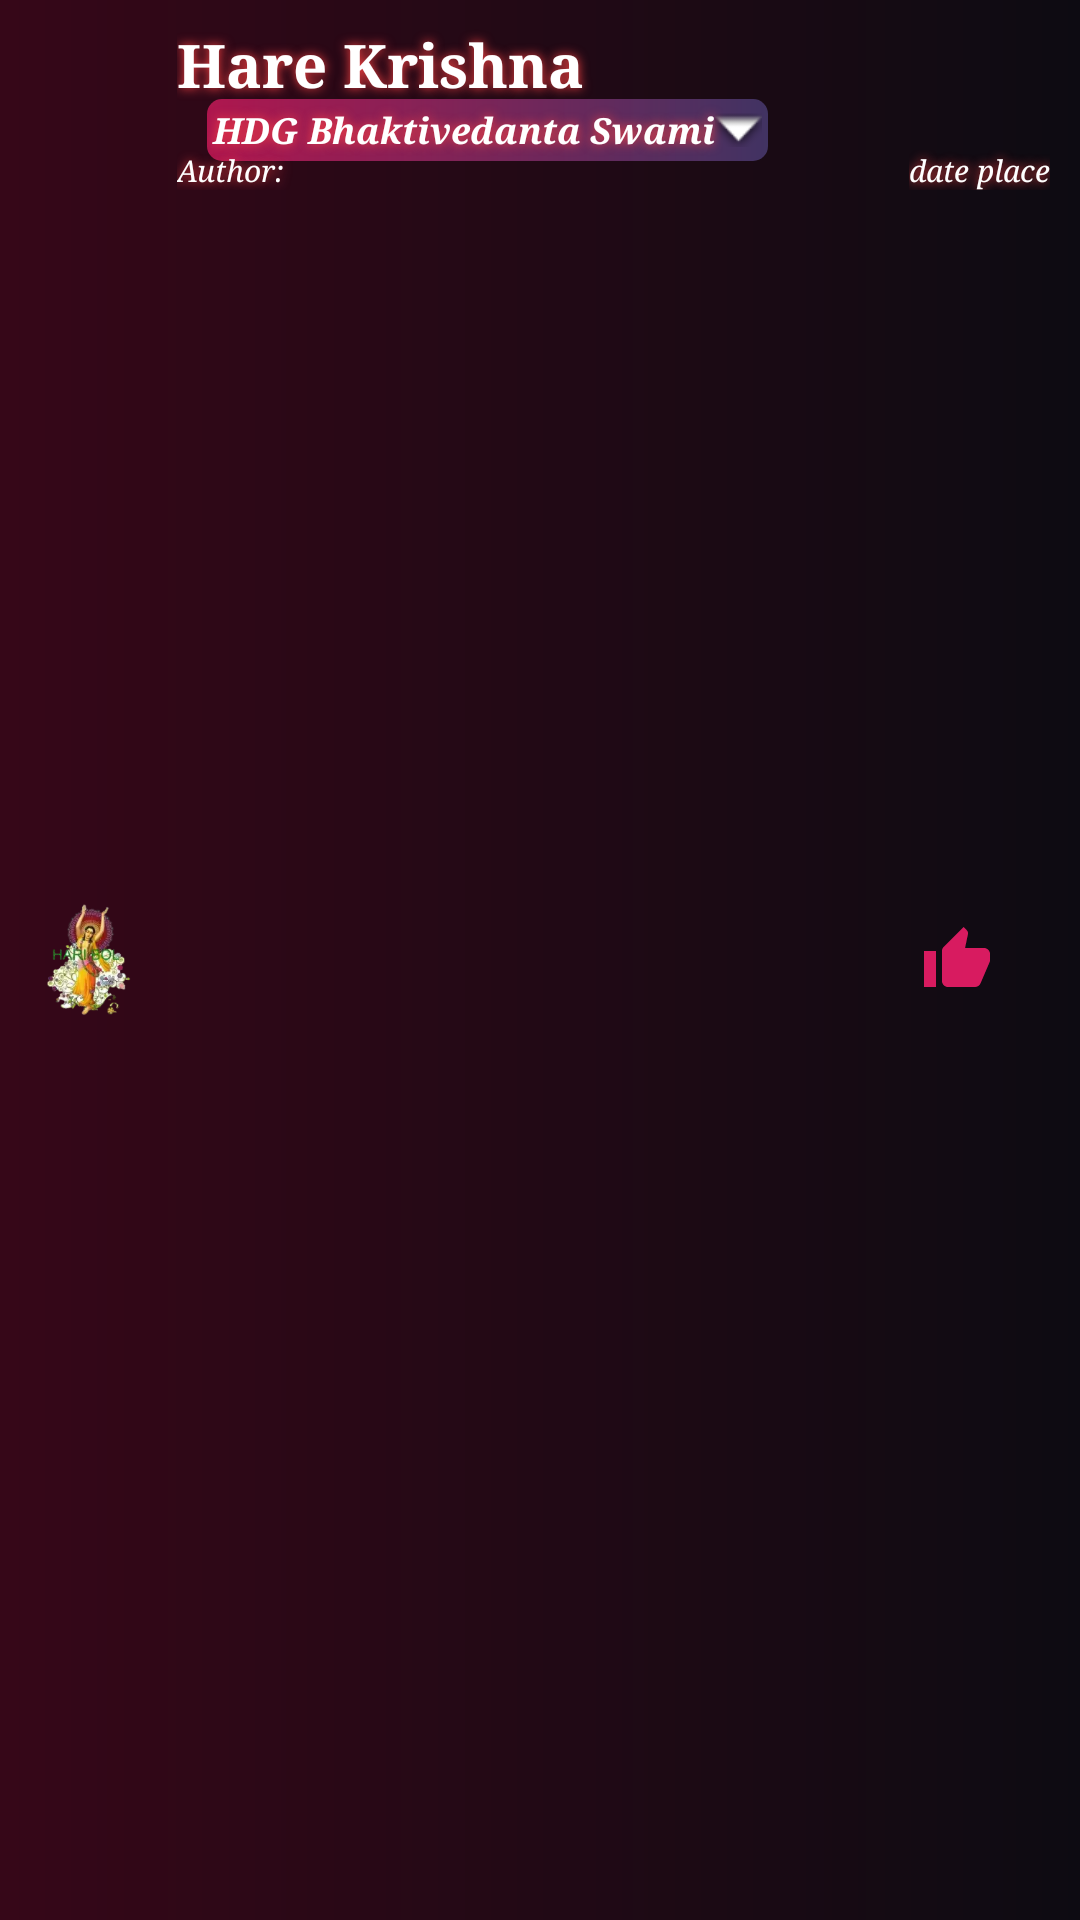

Locate icon controls on the screen. Image size 1080px x 1920px, boxes as {"x1": x1, "y1": y1, "x2": x2, "y2": y2}.
thumb: {"x1": 924, "y1": 927, "x2": 990, "y2": 987}
